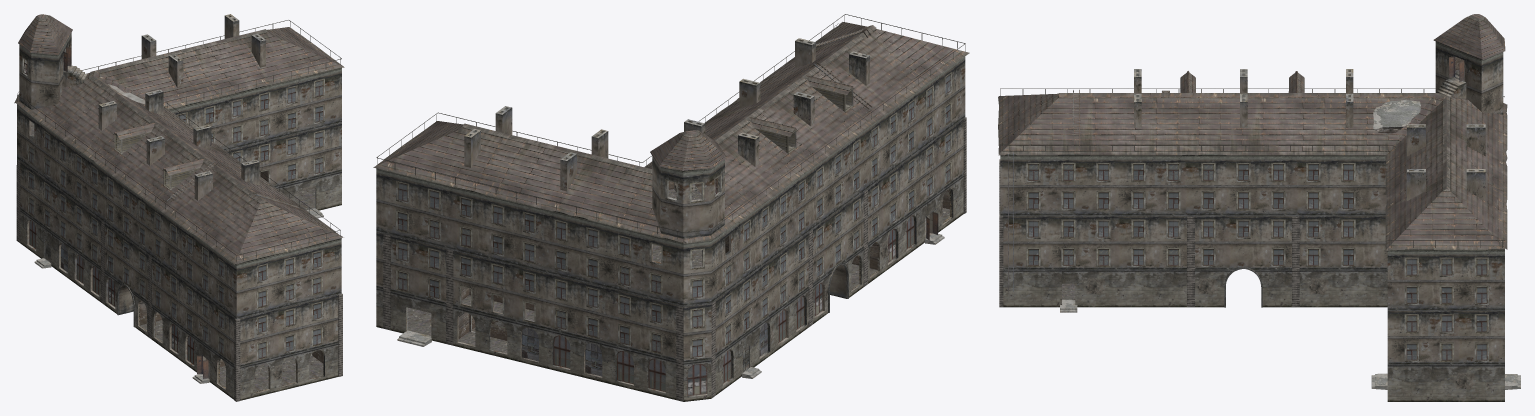
Rendered from Building_City_03_4LOD3.FBX.
3 renders of one model, left to right at view 1: azimuth 30°, elevation 25°; view 2: azimuth 150°, elevation 25°; view 3: azimuth 270°, elevation 25°, orthographic. The views are drawn at different scales.
Parts seen in each view (by area): view 1: Building_City_03_4_LOD3, Building_City_03_4Roof_LOD3, Building_City_03_4Frame_LOD3, Building_City_03_4Tube_LOD3; view 2: Building_City_03_4_LOD3, Building_City_03_4Roof_LOD3, Building_City_03_4Frame_LOD3, Building_City_03_4Tube_LOD3; view 3: Building_City_03_4_LOD3, Building_City_03_4Roof_LOD3, Building_City_03_4Frame_LOD3, Building_City_03_4Tube_LOD3.
Part boxes in pixels (x1,y1,x2,y2): Building_City_03_4_LOD3: (16, 14, 342, 401); Building_City_03_4Roof_LOD3: (14, 20, 344, 264); Building_City_03_4Frame_LOD3: (28, 78, 324, 360); Building_City_03_4Tube_LOD3: (98, 14, 265, 200); Building_City_03_4_LOD3: (376, 56, 966, 401); Building_City_03_4Roof_LOD3: (373, 14, 969, 243); Building_City_03_4Frame_LOD3: (396, 72, 951, 359); Building_City_03_4Tube_LOD3: (464, 38, 869, 191); Building_City_03_4_LOD3: (999, 14, 1520, 401); Building_City_03_4Roof_LOD3: (998, 71, 1507, 250); Building_City_03_4Frame_LOD3: (1026, 162, 1488, 361); Building_City_03_4Tube_LOD3: (1134, 69, 1485, 200).
Size of the model in its own units: 3703 by 5201 by 2719.
7 materials, 7 textured.
